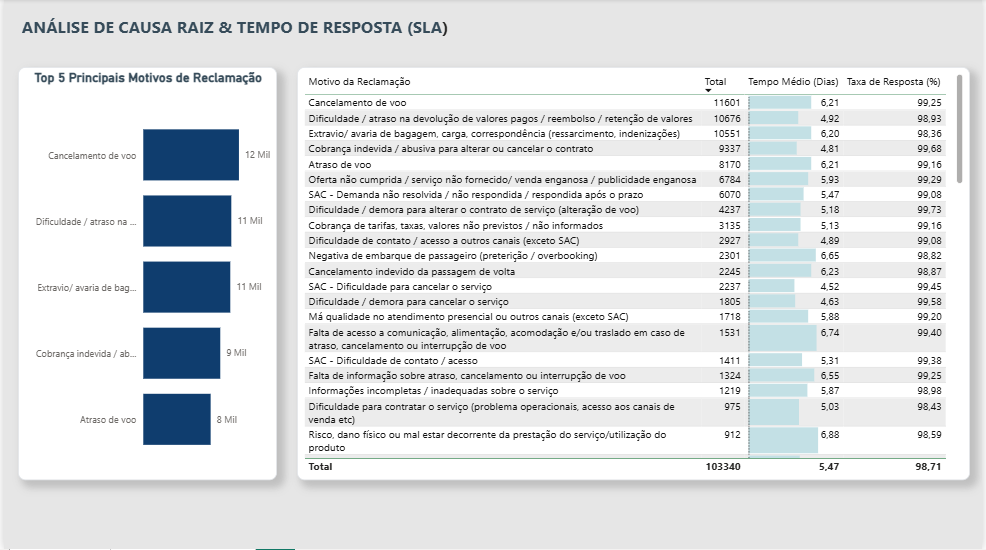

The dashboard page shown, as its layout file describes it:
{"tool":"powerbi","page":{"name":"Causa Raiz & Pódio","canvas":[1280,720],"ordinal":1},"visuals":[{"type":"textbox","box":[351.4,20.2,576,41.8],"z":0},{"type":"barChart","title":"Top 5 Principais Motivos de Reclamação","fields":{"Category":["ranking_problemas.motivo_problema"],"Y":["Sum(ranking_problemas.total_reclamacoes)"]},"box":[18.7,89.3,332.6,423.4],"z":1000},{"type":"tableEx","fields":{"Values":["causa_raiz_problemas.motivo_problema","Sum(causa_raiz_problemas.total_reclamacoes)","Avg(causa_raiz_problemas.tempo_resposta_dias)","Avg(causa_raiz_problemas.taxa_resposta_pct)"]},"box":[396,89.3,861.1,541.4],"z":1001}]}

Visuals, with their boxes in screenshot pixels (x1, y1, x2, y2), scaled from the page's 1280x720 canvas onto the 986x550 screenshot:
textbox: box(271, 15, 714, 47)
"Top 5 Principais Motivos de Reclamação" barChart: box(14, 68, 271, 392)
tableEx - causa_raiz_problemas.motivo_problema x Sum(causa_raiz_problemas.total_reclamacoes): box(305, 68, 968, 482)
